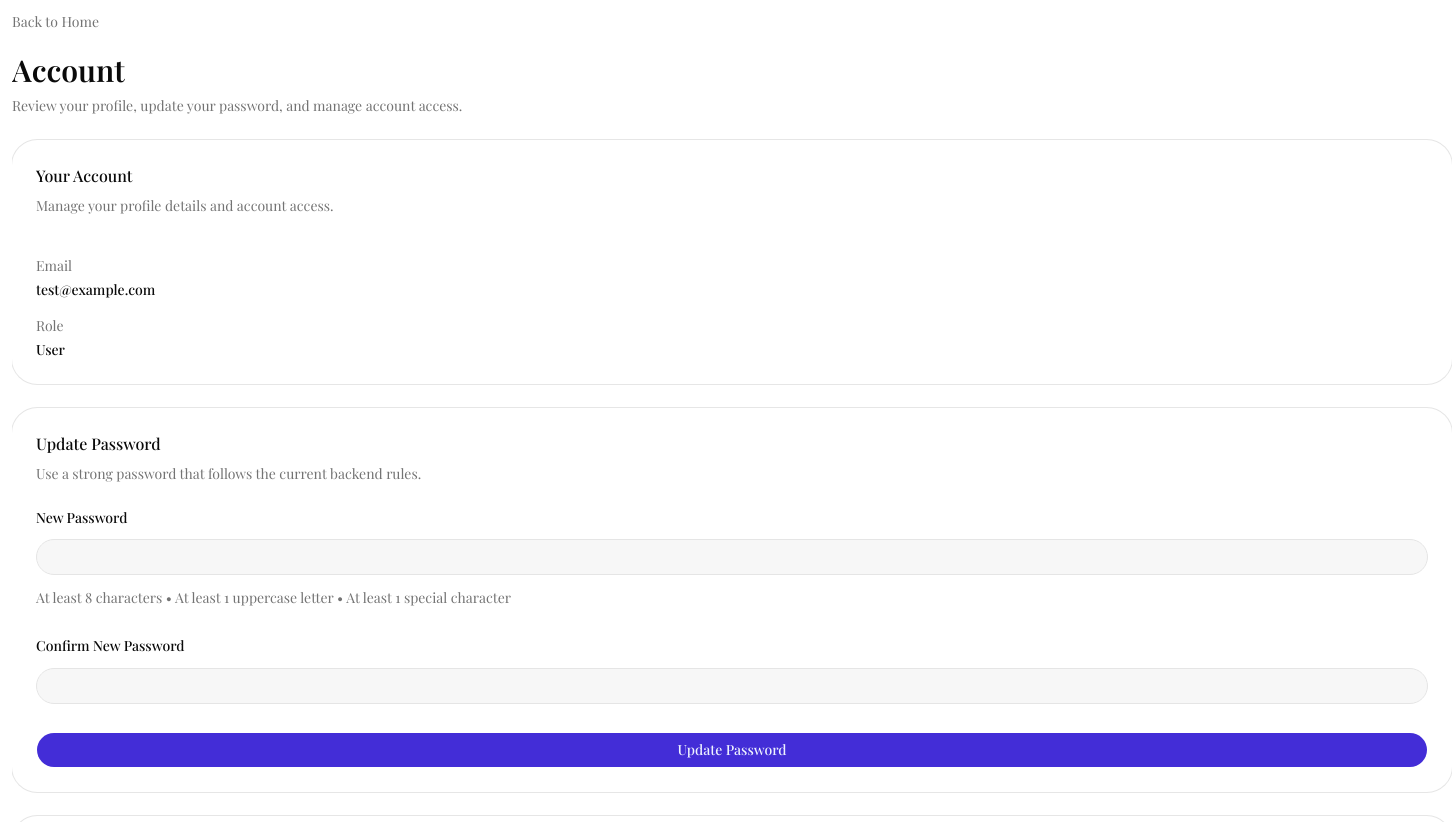
Test case: AccountPage › shows error when new password is too short
Check: the text "test@example.com" is shown, box top-left (36, 280), bottom-right (155, 299)
Type "Ab1!" into the password field labelled "New Password".
click(732, 557); type("Ab1!")  # box top-left (36, 539), bottom-right (1428, 575)
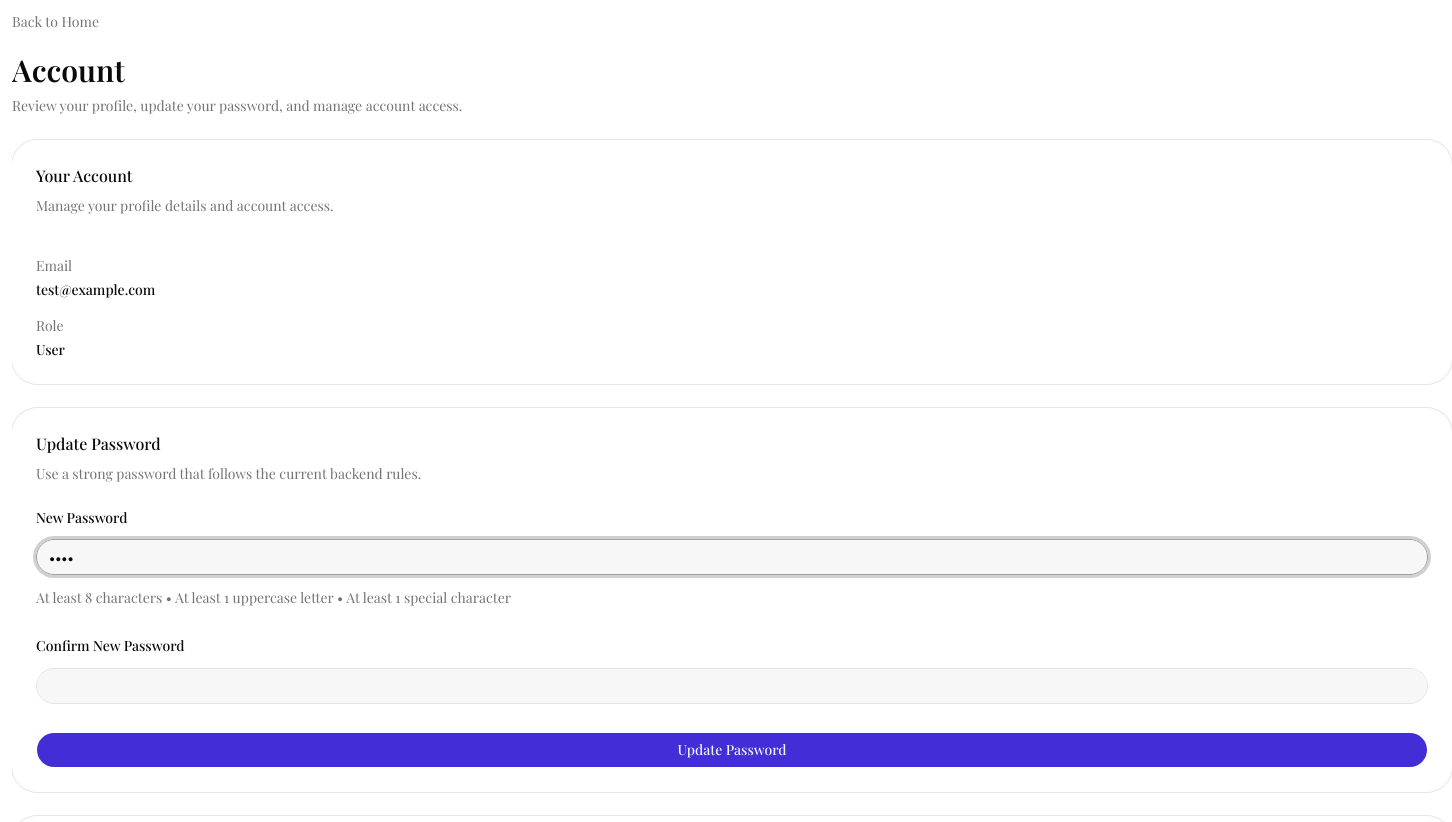
Type "Ab1!" into the password field labelled "Confirm New Password".
click(732, 686); type("Ab1!")  # box top-left (36, 668), bottom-right (1428, 704)
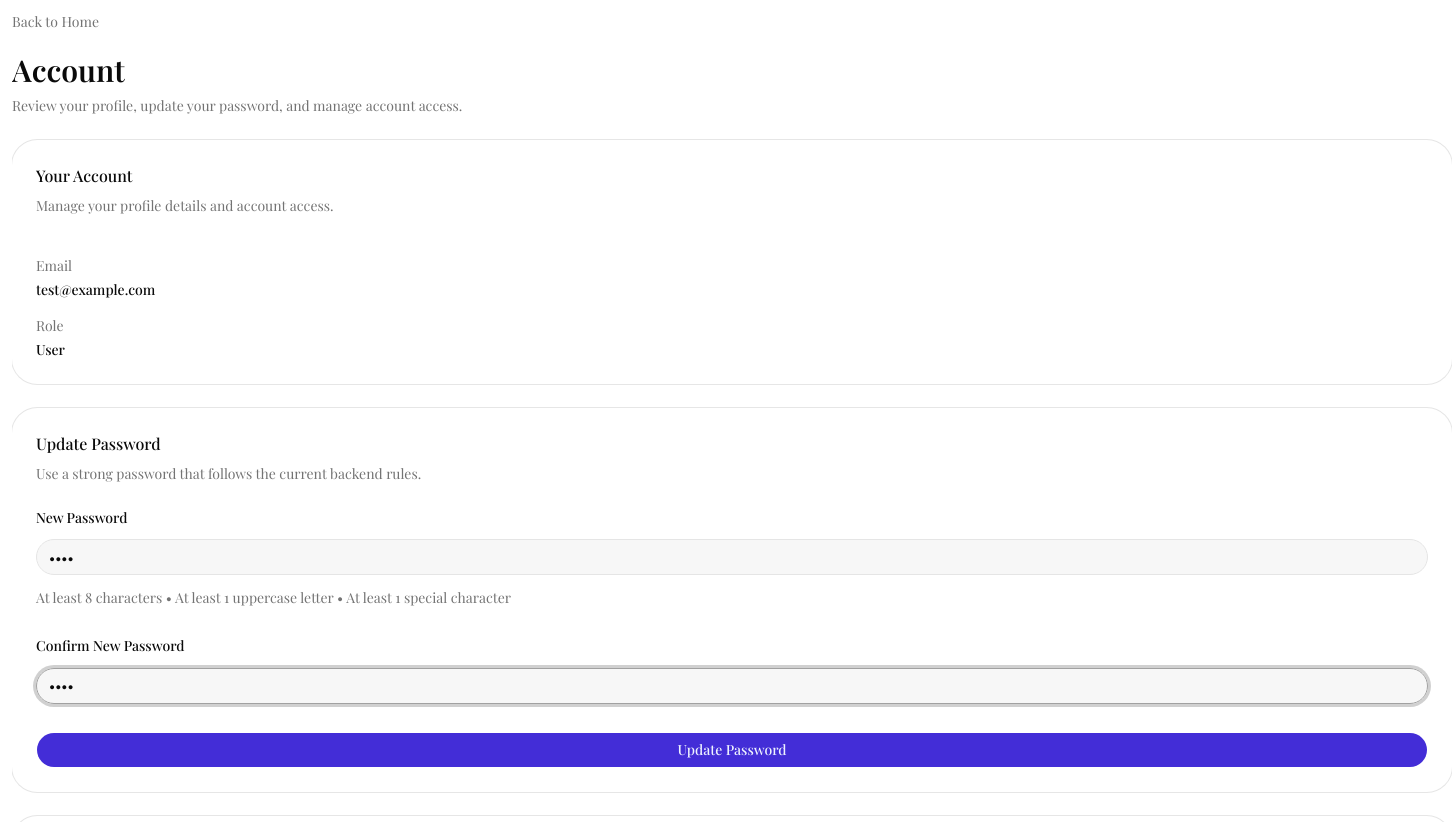
Click the button "Update Password".
click(732, 750)  # box top-left (36, 732), bottom-right (1428, 768)
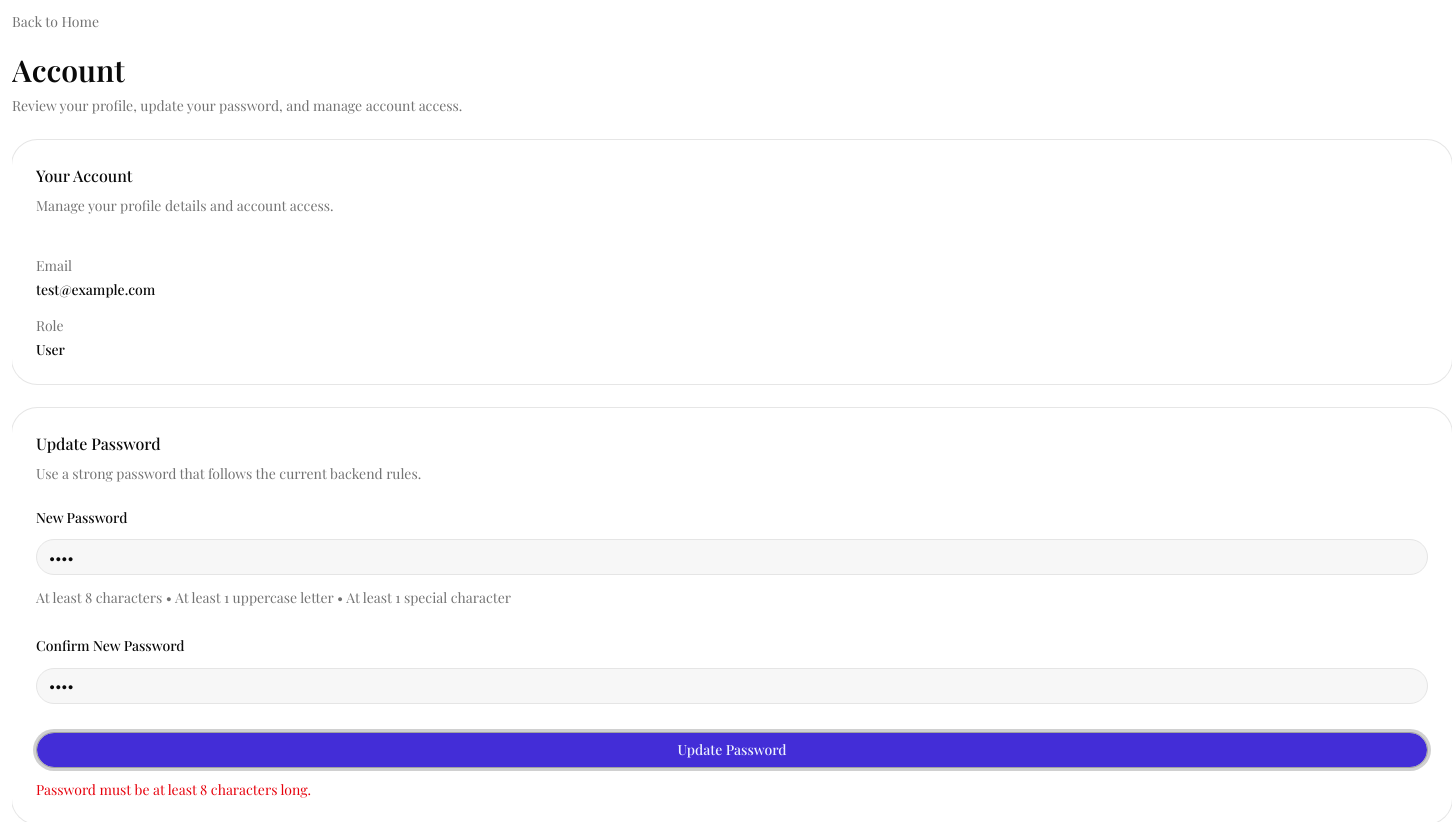
Check: the text "Password must be at least 8 characters long." is shown, box top-left (36, 780), bottom-right (311, 798)
